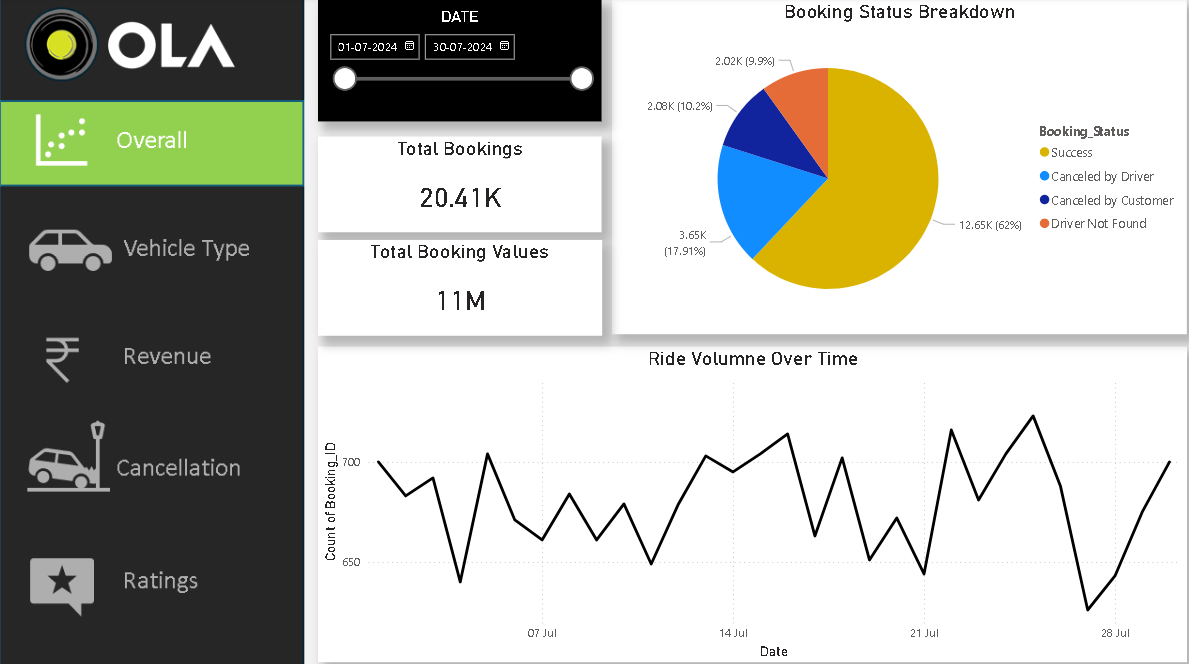

What the dashboard file says about the page in this screenshot:
{"tool":"powerbi","page":{"name":"Overall","canvas":[1280,720],"ordinal":0},"visuals":[{"type":"actionButton","box":[0,199.7,322.7,100.7],"z":0},{"type":"actionButton","box":[0,335.5,322.7,94.3],"z":1000},{"type":"actionButton","box":[0,452.1,322.7,94.3],"z":2000},{"type":"actionButton","box":[0,575.2,322.7,94.3],"z":3000},{"type":"actionButton","box":[0,107,322.7,92.7],"z":4000},{"type":"lineChart","title":"Ride Volumne Over Time","fields":{"Y":["CountNonNull(Bookings.Booking_ID)"],"Category":["Bookings.Date.Variation.Date Hierarchy.Year","Bookings.Date.Variation.Date Hierarchy.Quarter","Bookings.Date.Variation.Date Hierarchy.Month","Bookings.Date.Variation.Date Hierarchy.Day"]},"box":[338.7,372.3,926.6,337.1],"z":5000},{"type":"pieChart","title":"Booking Status Breakdown","fields":{"Y":["CountNonNull(Bookings.Booking_Status)"],"Category":["Bookings.Booking_Status"]},"box":[651.8,3.2,613.5,356.3],"z":6000},{"type":"slicer","title":"DATE","fields":{"Values":["Bookings.Date"]},"box":[338.7,3.2,302,129.4],"z":7000},{"type":"card","title":"Total Bookings","fields":{"Values":["Count(Bookings.Booking_ID)"]},"box":[338.7,148.6,302,102.3],"z":8000},{"type":"card","title":"Total Booking Values","fields":{"Values":["Sum(Bookings.Booking_Value)"]},"box":[338.3,258.9,302.4,102],"z":9000}]}

Visuals, with their boxes in screenshot pixels (x1, y1, x2, y2), scaled from the page's 1280x720 canvas onto the 1189x664 screenshot:
actionButton: <box>0,184,300,277</box>
actionButton: <box>0,309,300,396</box>
actionButton: <box>0,417,300,504</box>
actionButton: <box>0,530,300,617</box>
actionButton: <box>0,99,300,184</box>
"Ride Volumne Over Time" lineChart: <box>315,343,1175,654</box>
"Booking Status Breakdown" pieChart: <box>605,3,1175,332</box>
"DATE" slicer: <box>315,3,595,122</box>
"Total Bookings" card: <box>315,137,595,231</box>
"Total Booking Values" card: <box>314,239,595,333</box>
